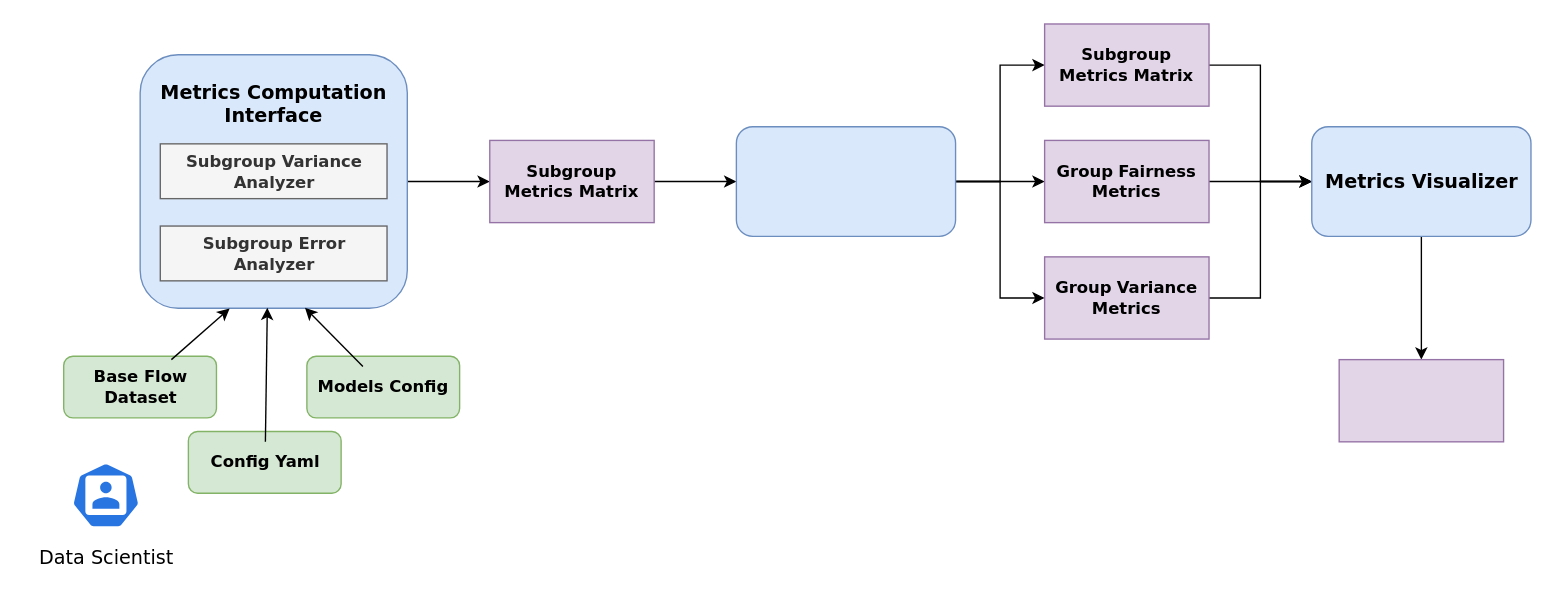
Image size: 1560x603. Some labels were removed from this diagram. The centre of each missing label's shape, as x and y in pixels:
Final Report & Visualizations: point (1421, 400)
Metrics Composer: point (845, 180)
